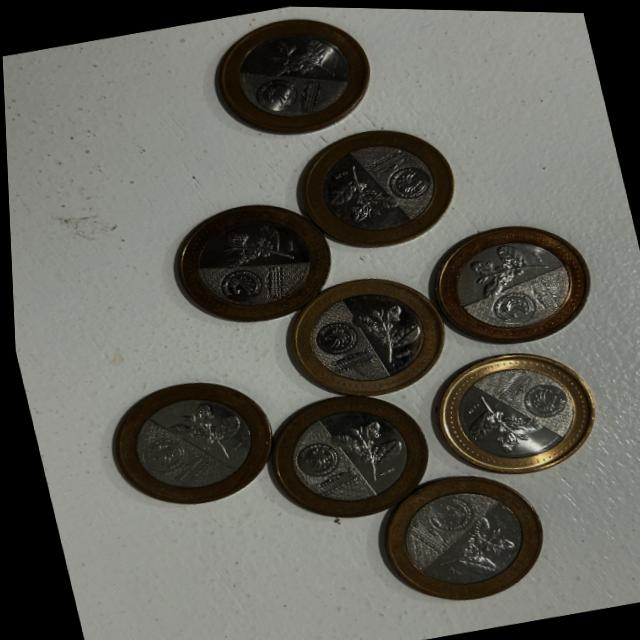20_New_Back: (166, 395, 246, 470), (324, 414, 403, 488), (345, 295, 426, 367), (208, 214, 310, 271), (433, 514, 512, 582), (467, 236, 549, 301), (315, 162, 390, 230), (461, 390, 539, 454), (259, 32, 335, 81)
